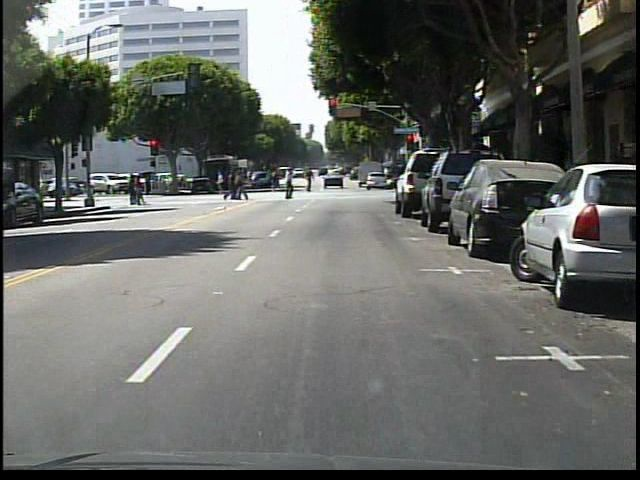person: (276, 166, 298, 204), (300, 167, 318, 196)
